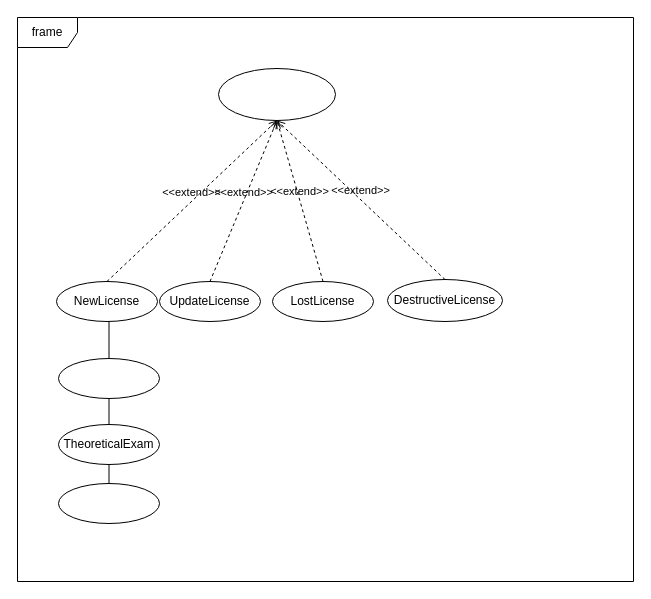
Some shapes in this 651 by 599 pixel diagram are drawn without their labels. The centre of each missing label's shape, as x and y in pixels:
"OpticalExam" belongs at point 109,378.
"OrderService" belongs at point 277,94.
"VirtualExam" belongs at point 109,503.
